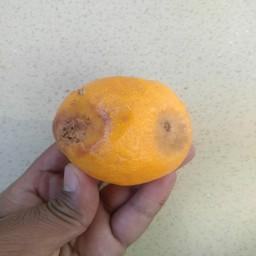Bad_orange: (52, 76, 196, 189)
